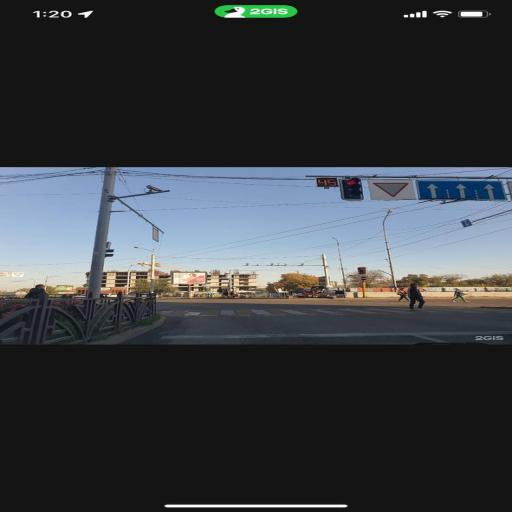crosswalk: (408, 283, 425, 310)
elevator: (340, 178, 364, 200), (358, 267, 366, 275)
